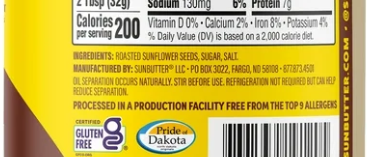l: (71, 50, 248, 63)
